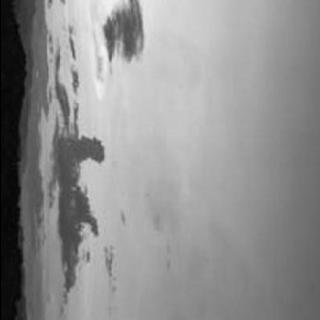Cirrostratus: (13, 0, 255, 320)
